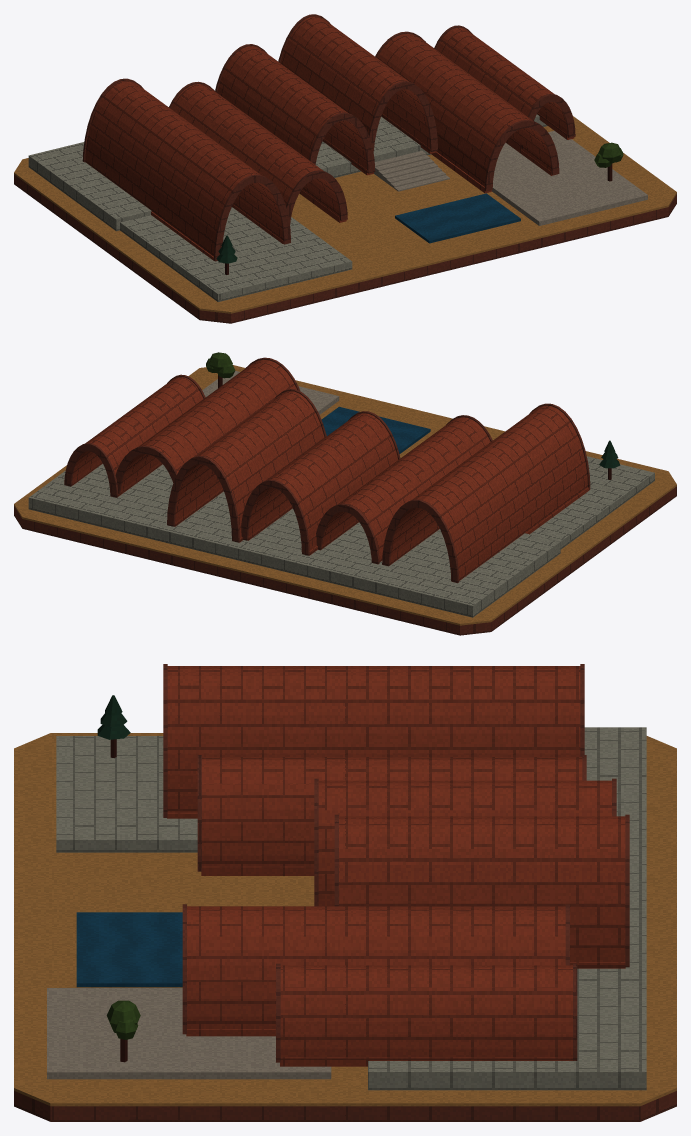
The model's file is jingdezhen-kiln-museum.glb.
The picture shows the model from 3 angles, top to bottom: view 1: azimuth 30°, elevation 25°; view 2: azimuth 150°, elevation 25°; view 3: azimuth 270°, elevation 25°; orthographic projection. The views are drawn at different scales.
Visible parts, largest first — view 1: 景德镇御窑博物馆; view 2: 景德镇御窑博物馆; view 3: 景德镇御窑博物馆.
Part boxes in pixels (box(x1,y1,x2,y2)): 景德镇御窑博物馆: box(14, 14, 676, 323); 景德镇御窑博物馆: box(14, 352, 676, 635); 景德镇御窑博物馆: box(14, 664, 676, 1121).
Bounding box in the file's own units: 11.1 × 2.24 × 8.4.
9 materials, 9 textured.
